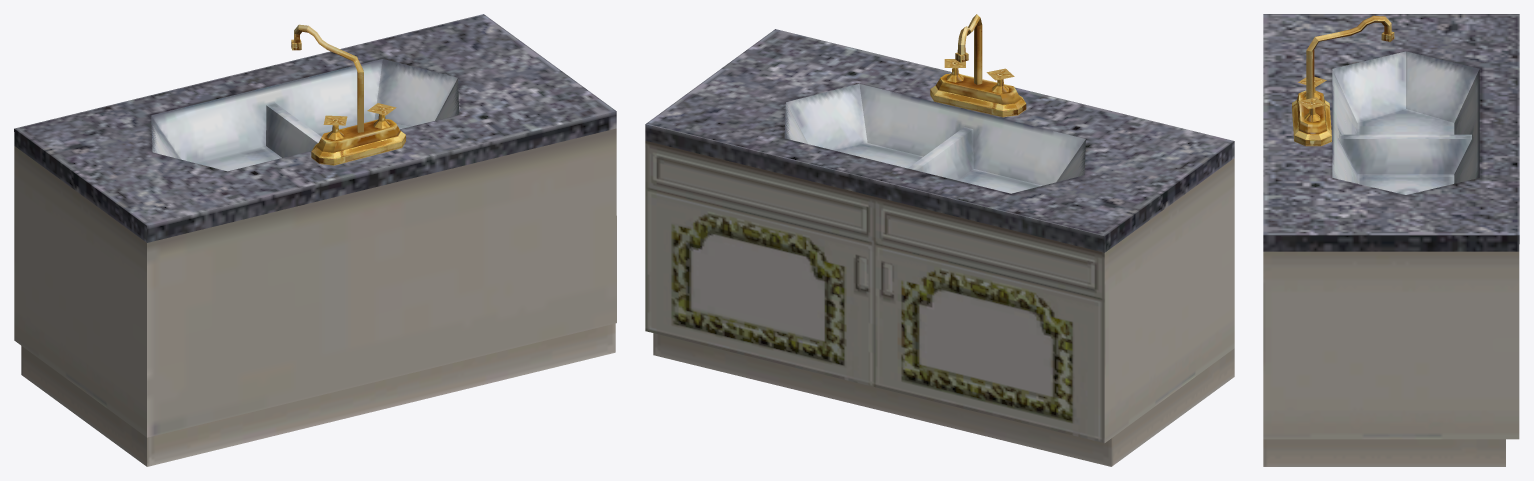
File: furni_0200089_01.FBX
3 renders of one model, left to right at view 1: azimuth 30°, elevation 25°; view 2: azimuth 150°, elevation 25°; view 3: azimuth 270°, elevation 25°, orthographic. The views are drawn at different scales.
Parts seen in each view (by area): view 1: furni_0200089_01; view 2: furni_0200089_01; view 3: furni_0200089_01.
Part boxes in pixels (x1,y1,x2,y2): furni_0200089_01: (14, 14, 616, 466); furni_0200089_01: (645, 14, 1234, 466); furni_0200089_01: (1263, 14, 1519, 466).
Bounding box in the file's own units: 163 × 115 × 80.
Materials: 1 (1 with a texture image).
